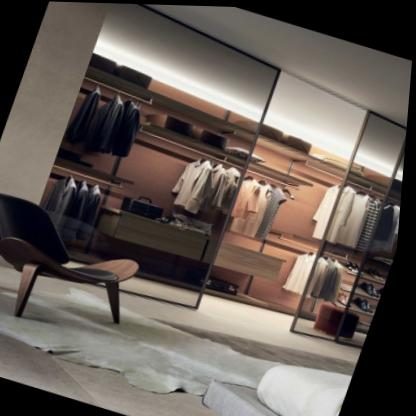Transparent Closet: (45, 3, 409, 343)
